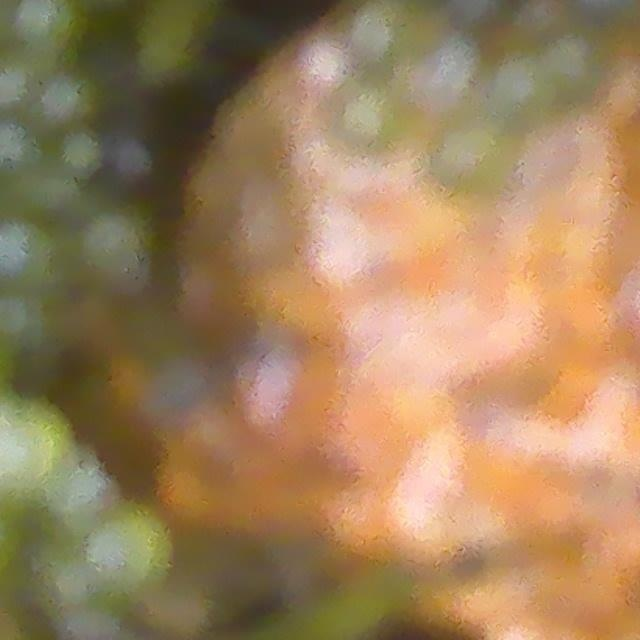SeaGrape: (79, 497, 183, 601), (69, 202, 166, 301), (0, 216, 63, 298), (8, 0, 91, 61), (0, 118, 44, 182), (0, 46, 40, 113)
